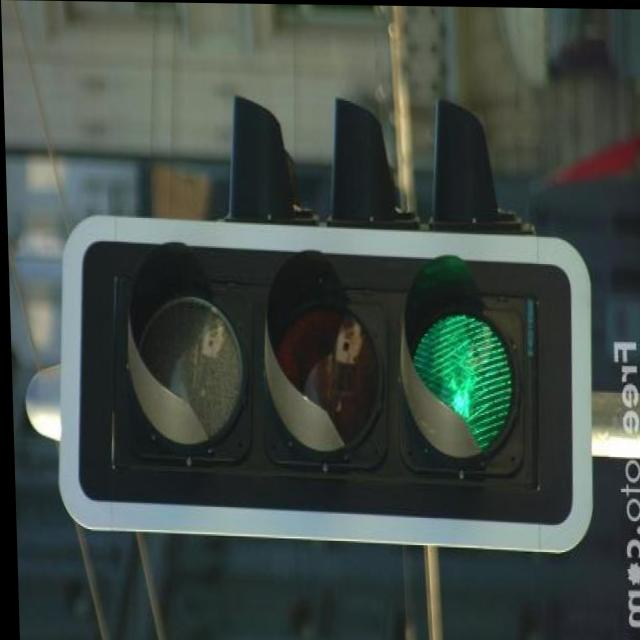green light: (73, 232, 570, 522)
